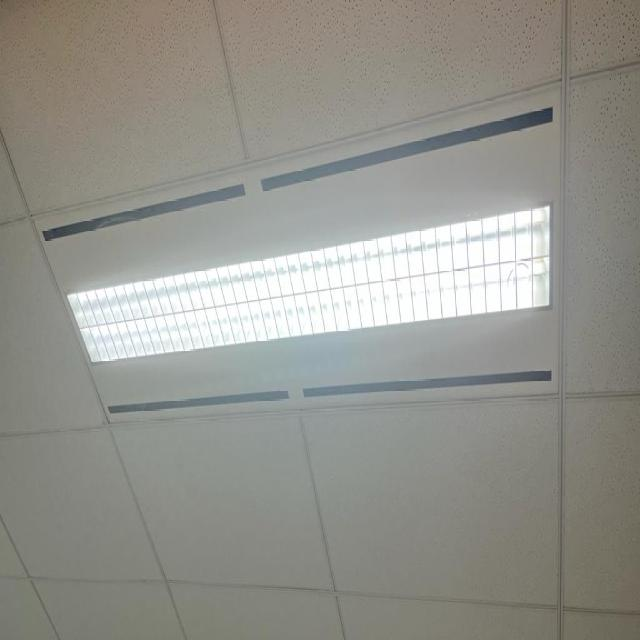Light-Opened: (29, 78, 566, 426)
